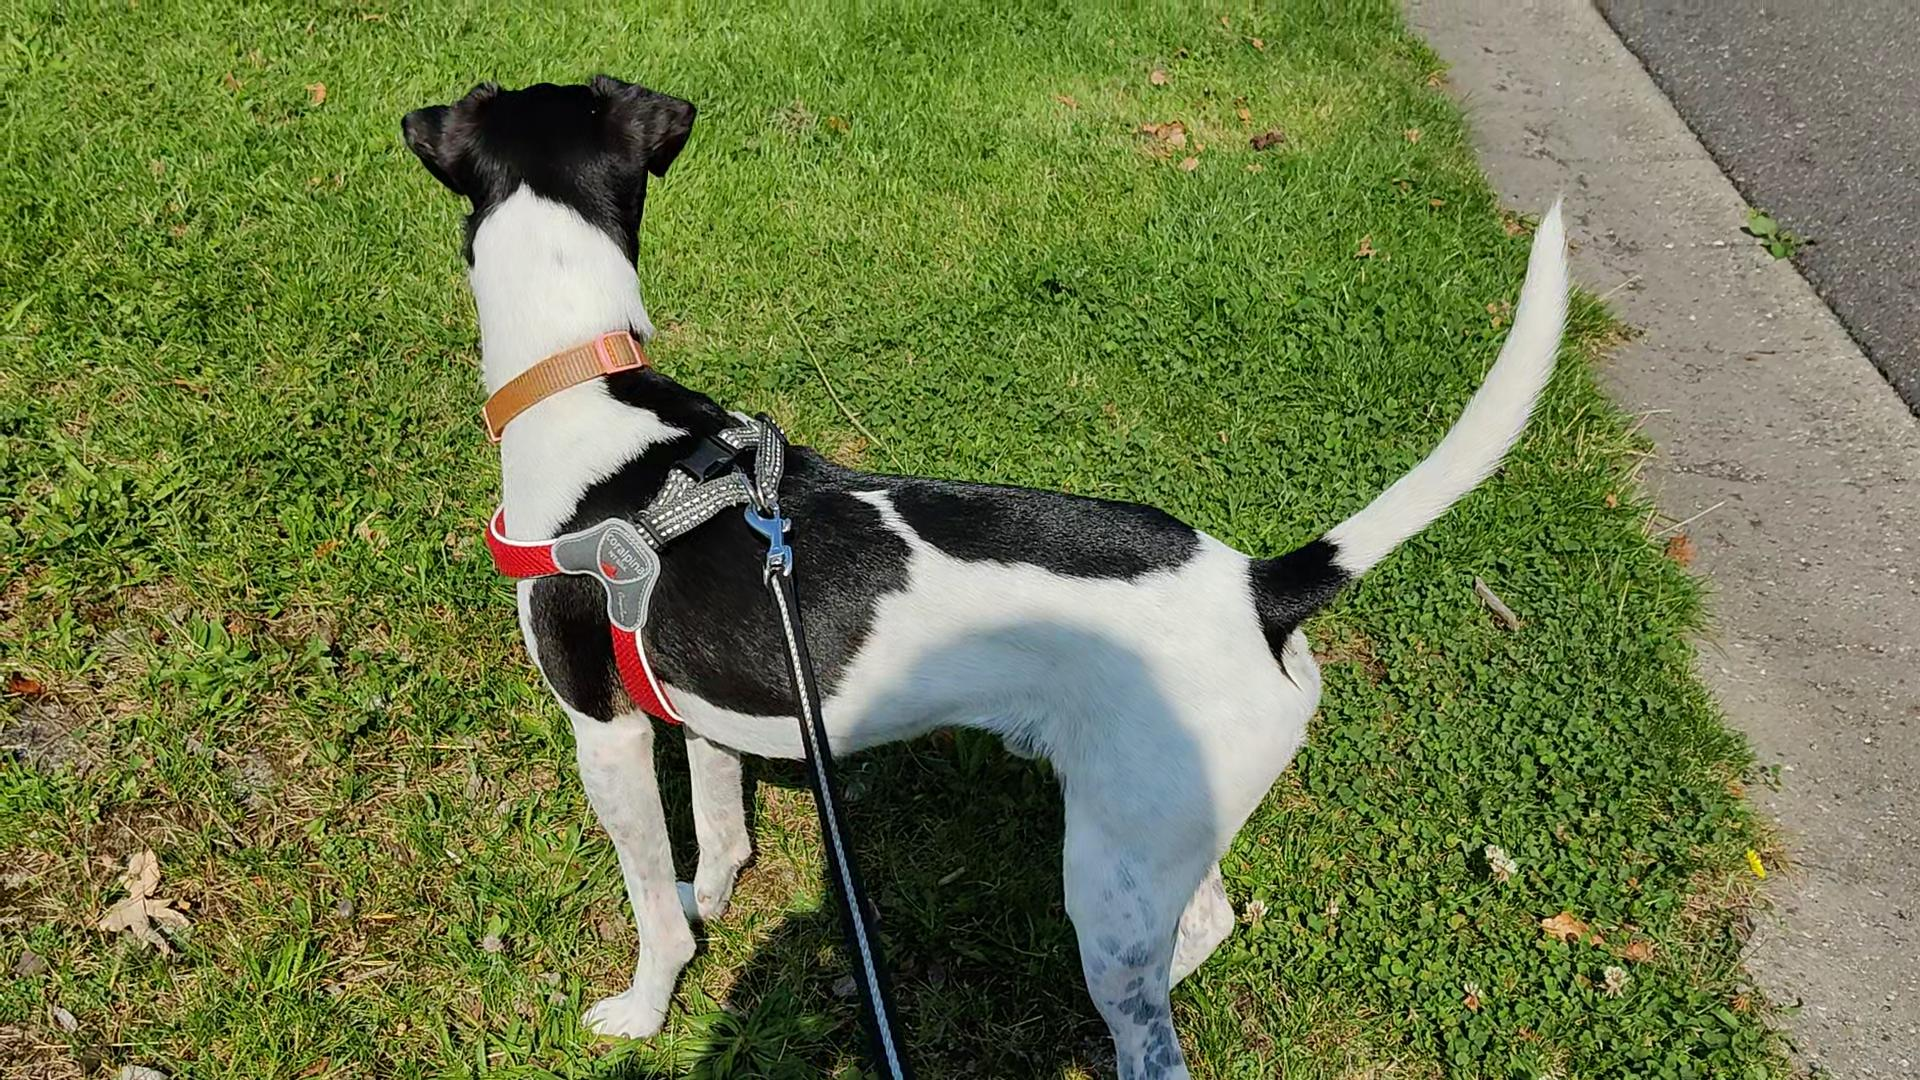Dog: (378, 67, 1582, 1077)
